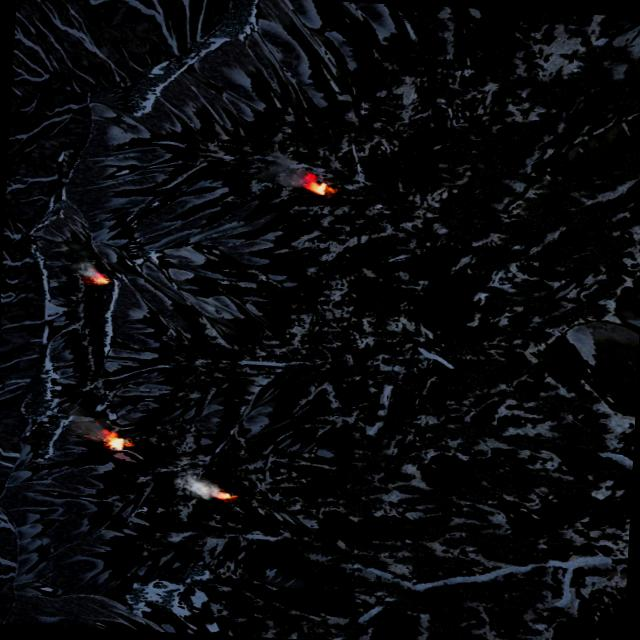fire: (104, 432, 130, 452), (306, 178, 332, 194), (216, 490, 236, 500), (92, 274, 110, 284)
smoke: (262, 154, 312, 190), (62, 404, 108, 438), (64, 242, 102, 280), (179, 472, 220, 499)
